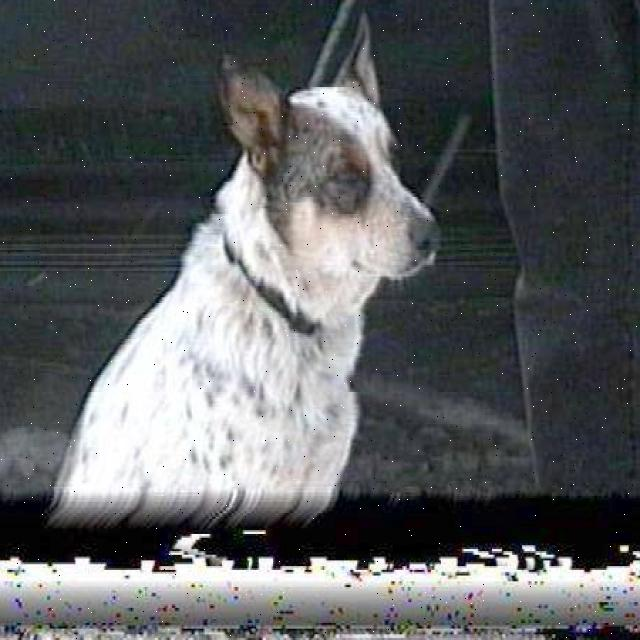Dog: (212, 5, 440, 325)
